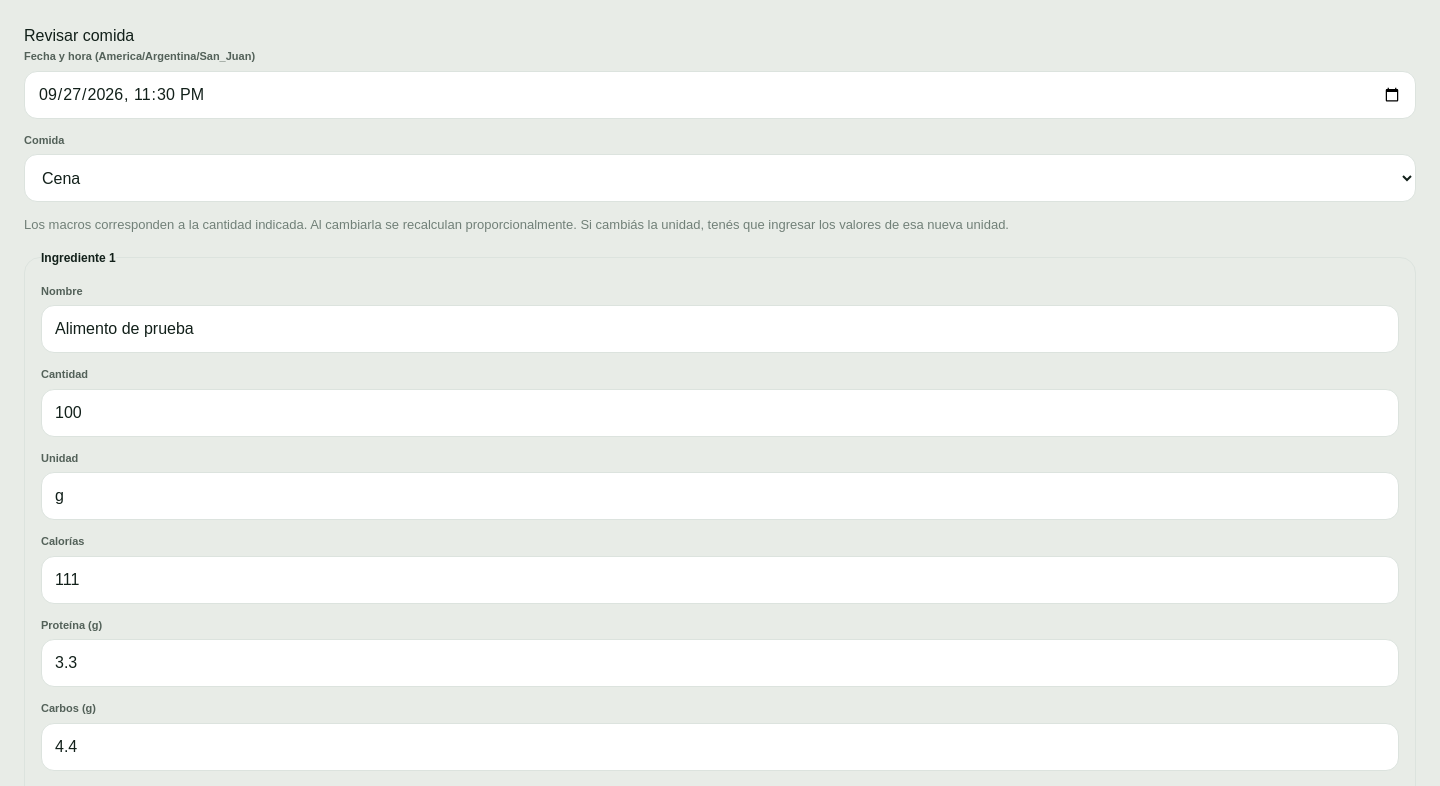
Test: RecordEditor › rebases proportional calculations after a manual macro correction
The image size is (1440, 786).
Replace the text in the number field labelled "Cantidad" with "200" at (720, 412), box [41, 388, 1399, 436]
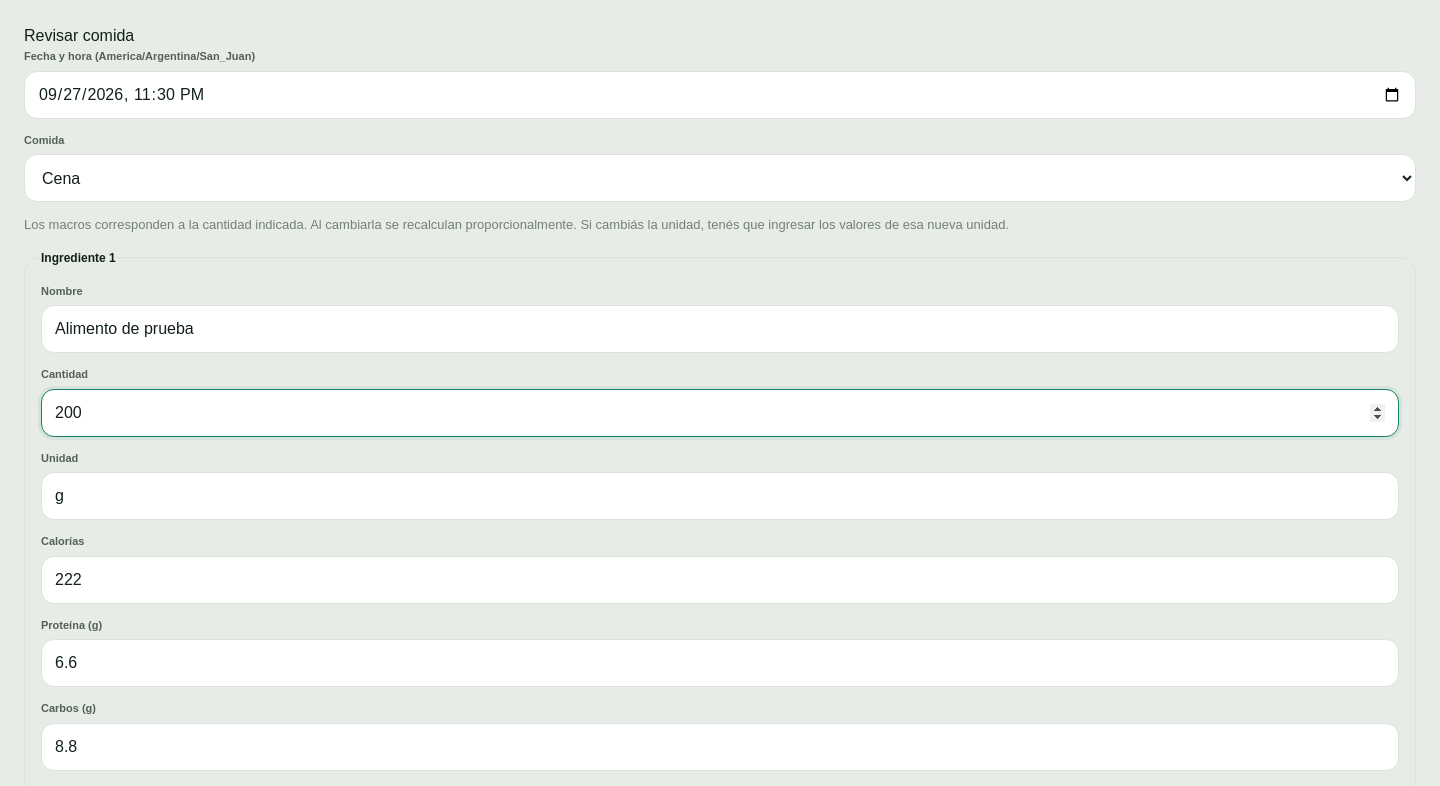
Clear the number field labelled "Calorías" at (720, 580), box [41, 556, 1399, 604]
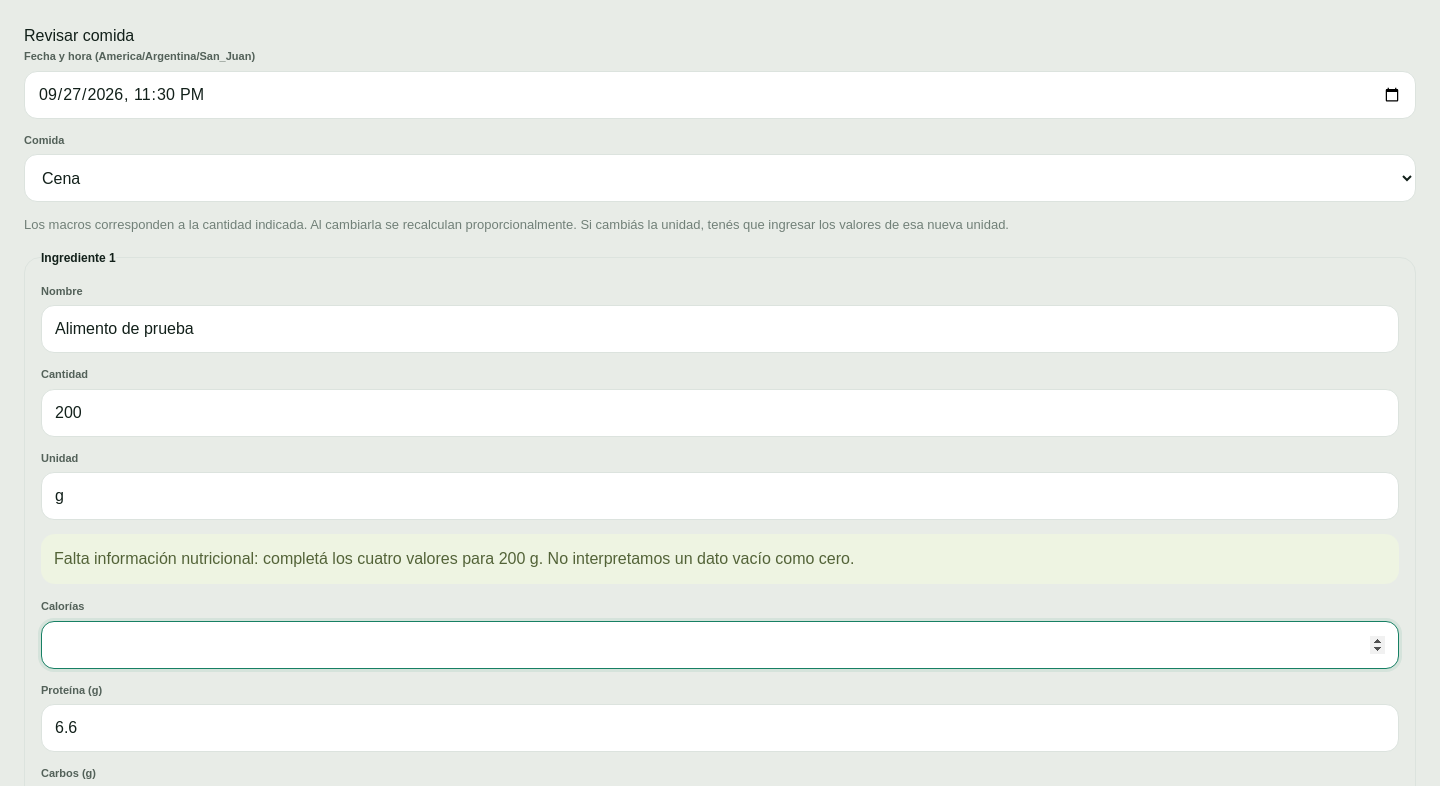
Type "300" into the number field labelled "Calorías" at (720, 644), box [41, 620, 1399, 668]
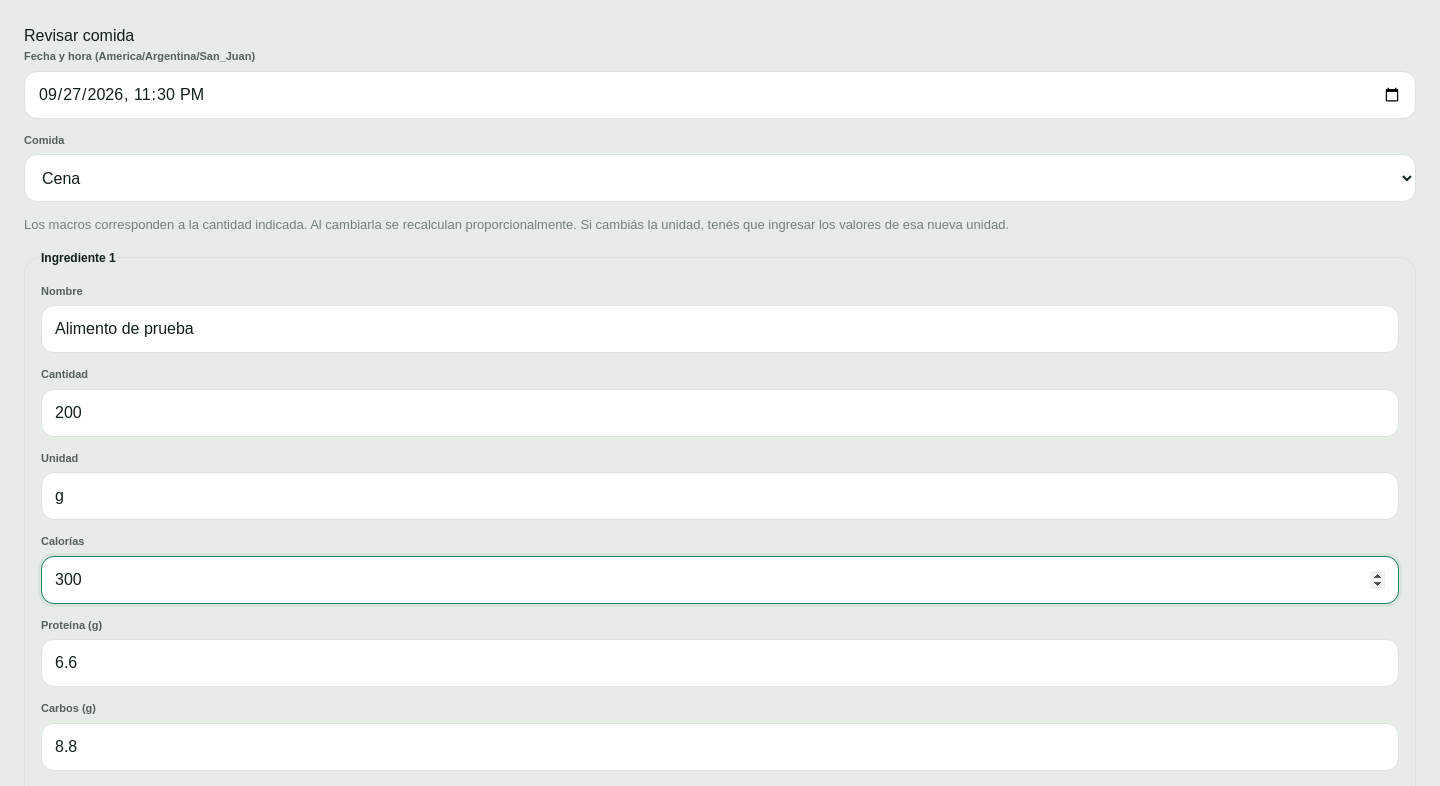
Replace the text in the number field labelled "Cantidad" with "100" at (720, 412), box [41, 388, 1399, 436]
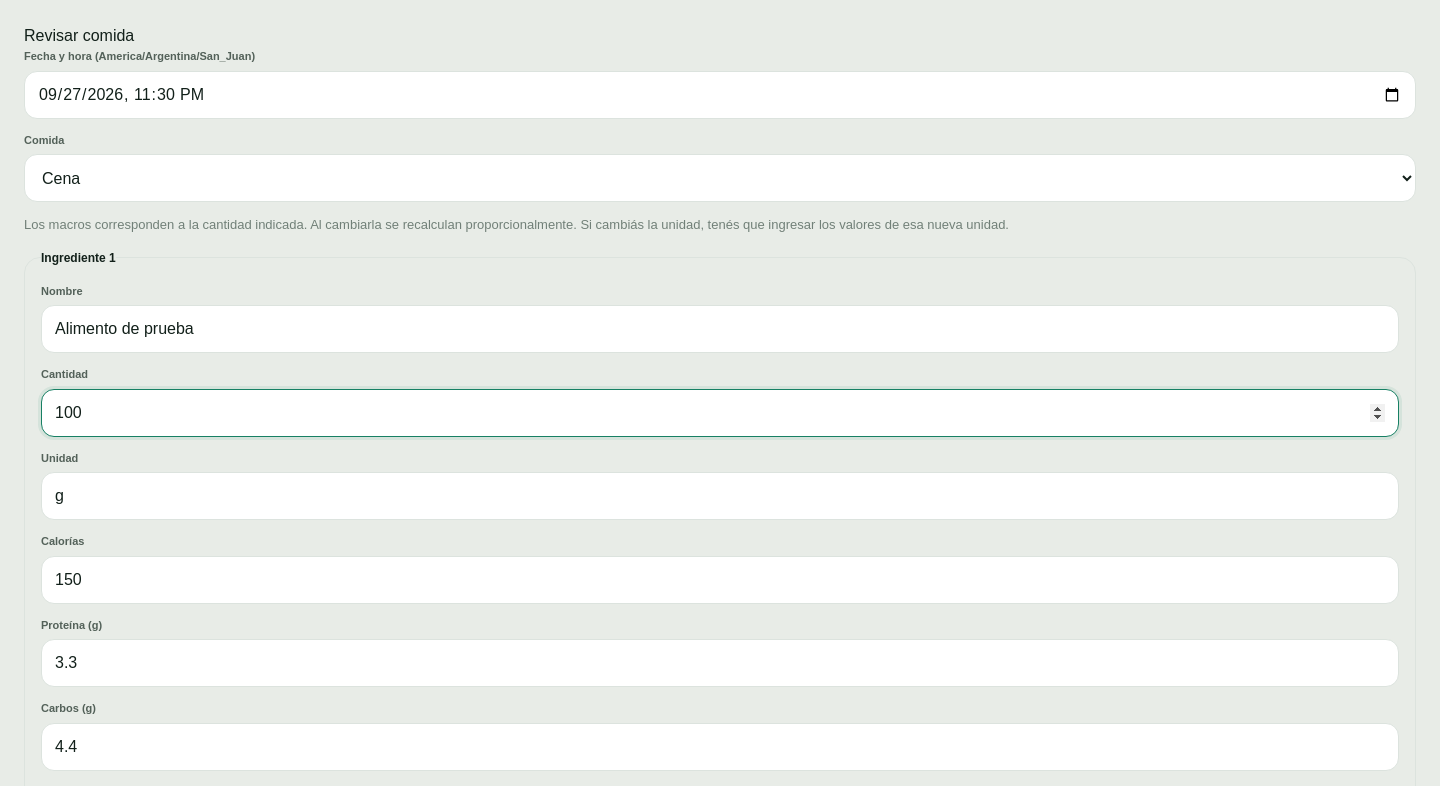
Expected: the number field labelled "Calorías" holds "150", [41, 556, 1399, 604]
Expected: the number field labelled "Proteína (g)" holds "3.3", [41, 639, 1399, 687]
Expected: the number field labelled "Carbos (g)" holds "4.4", [41, 722, 1399, 770]
Replace the text in the number field labelled "Cantidad" with "200" at (720, 412), box [41, 388, 1399, 436]
(page scrolled)
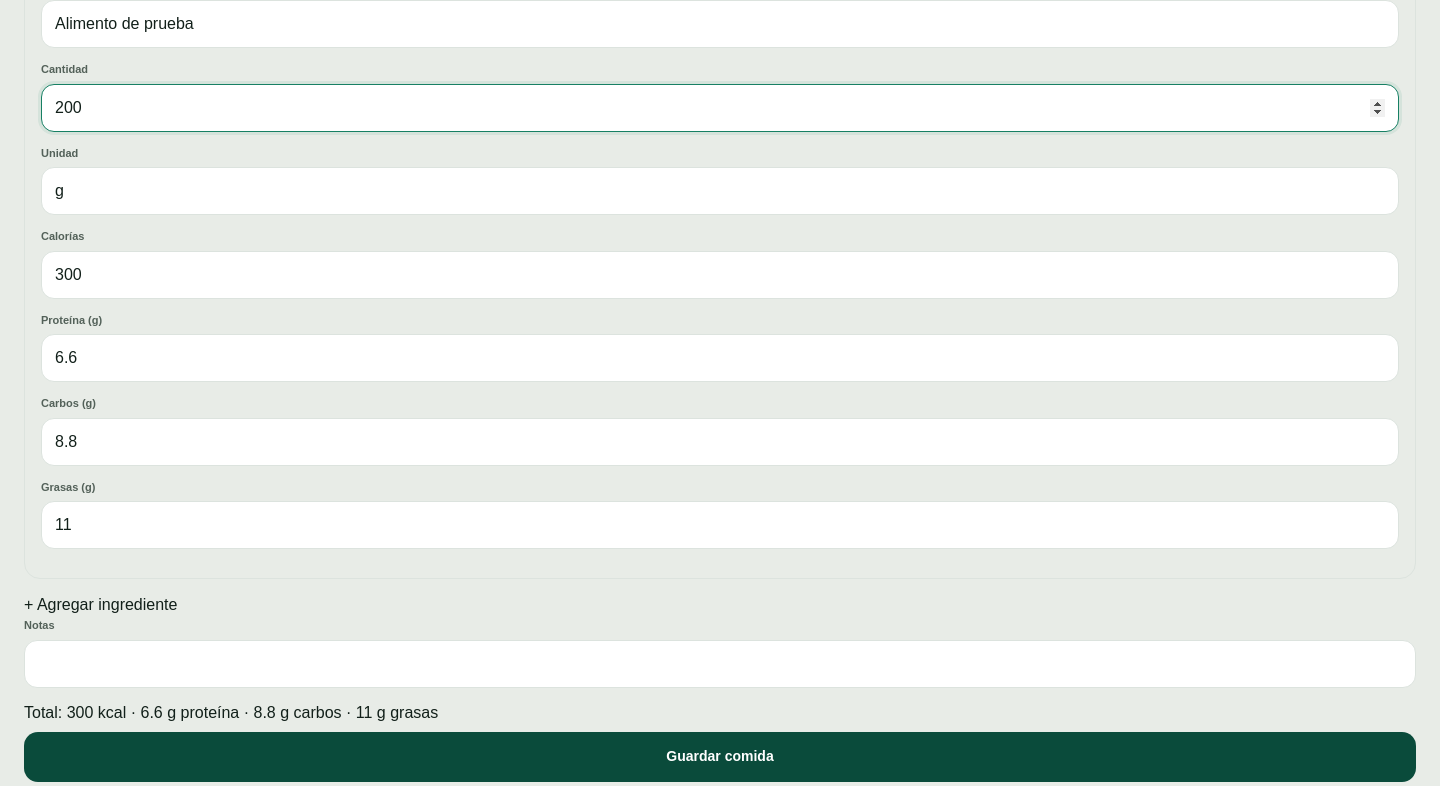
Expected: the number field labelled "Proteína (g)" holds "6.6", [41, 334, 1399, 382]
Expected: the number field labelled "Carbos (g)" holds "8.8", [41, 418, 1399, 466]
Expected: the number field labelled "Grasas (g)" holds "11", [41, 501, 1399, 549]
